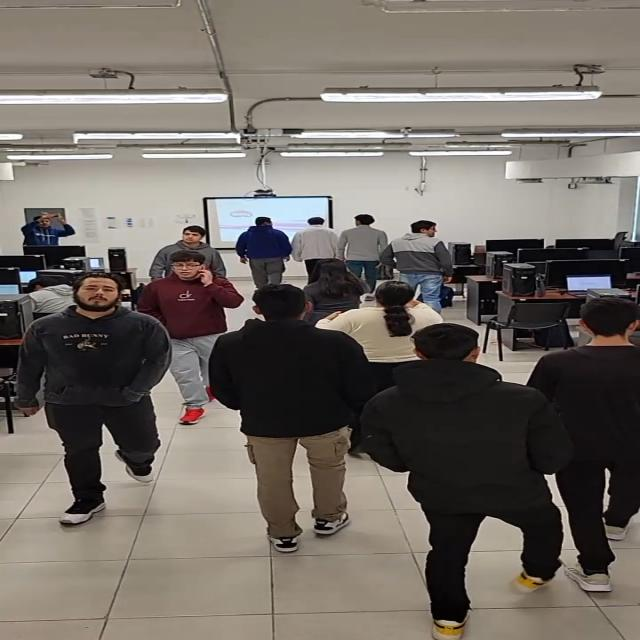Persona: (375, 319, 559, 616), (221, 285, 357, 538), (23, 272, 174, 482), (543, 290, 640, 576), (140, 254, 229, 366), (349, 284, 435, 361), (388, 220, 456, 292), (227, 212, 298, 280), (12, 208, 83, 258), (307, 254, 368, 311), (148, 218, 239, 256), (345, 211, 389, 282), (288, 217, 336, 271)
